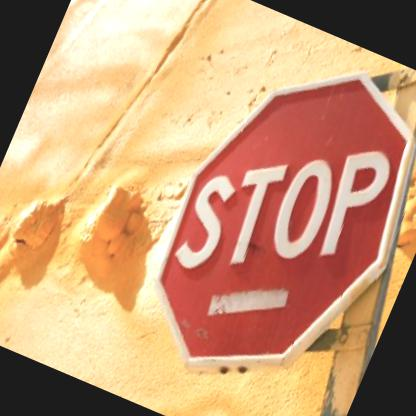stop: (120, 22, 415, 415)
